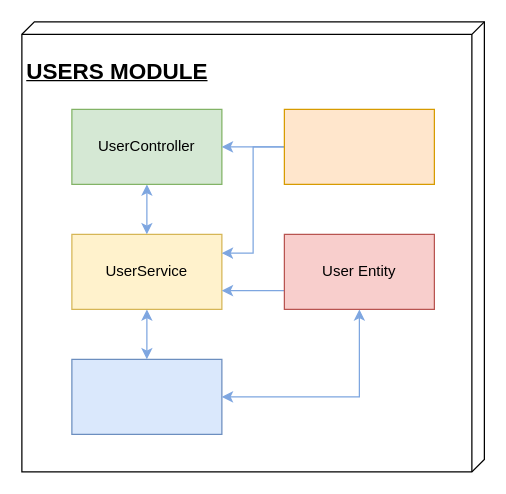
This 506x494 diagram has some shape labels left out. The shapes that lost their labels are listed below. From the top down, each one's centre as x and y in pixels, then its label:
pixel 358 146: User DTOS
pixel 146 396: UserRepository
